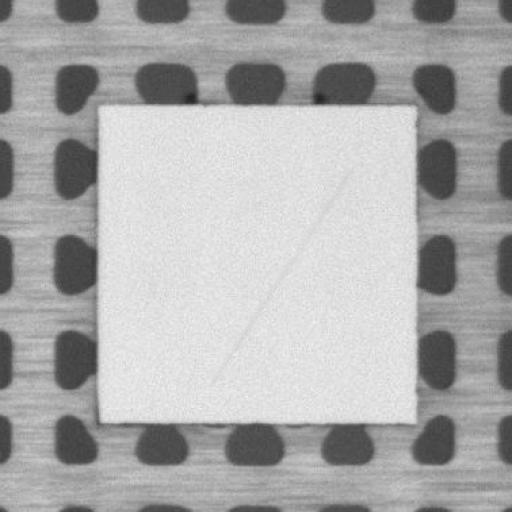DIE_CRACK: (210, 166, 352, 384)
